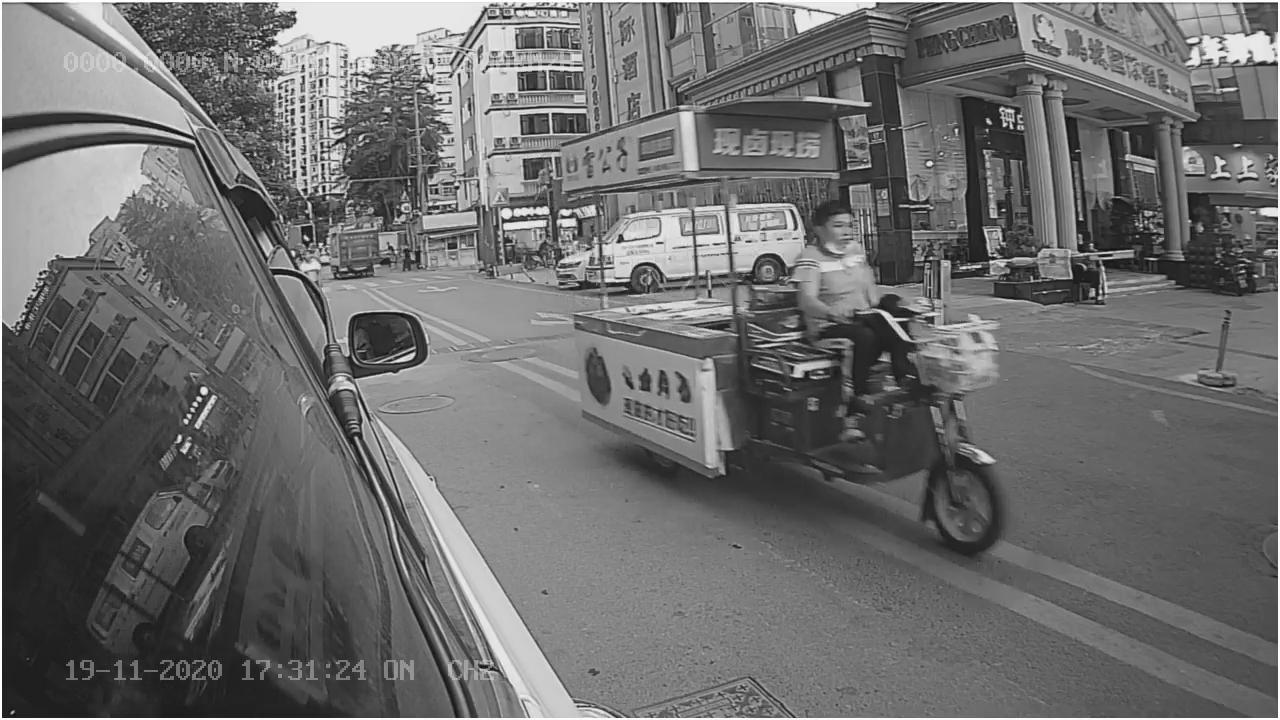person: (787, 202, 890, 317)
